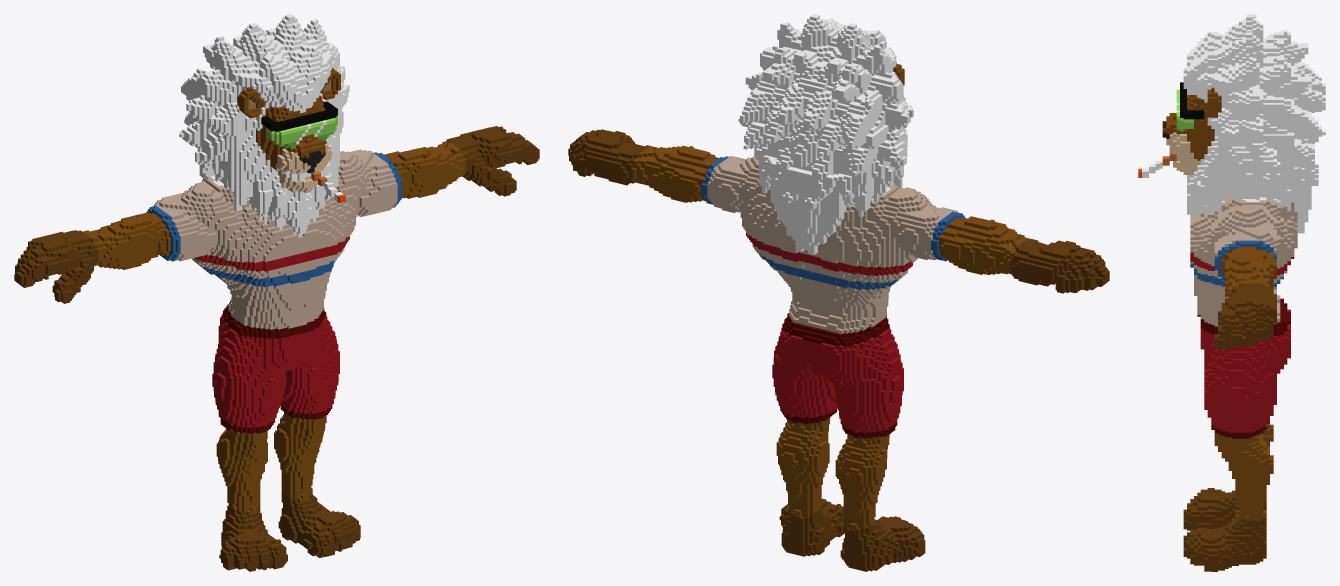
Rendered from 1025-BvGDQgRs.glb.
The picture shows the model from 3 angles, left to right: view 1: azimuth 30°, elevation 25°; view 2: azimuth 150°, elevation 25°; view 3: azimuth 270°, elevation 25°; orthographic projection. The views are drawn at different scales.
Parts seen in each view (by area): view 1: cigarette; view 2: cigarette; view 3: cigarette.
Part boxes in pixels (x1,y1,x2,y2): cigarette: [14, 14, 539, 571]; cigarette: [568, 14, 1109, 571]; cigarette: [1138, 14, 1325, 571].
Bounding box in the file's own units: 17.2 × 16.5 × 5.4.
Materials: 5 (5 with a texture image).
